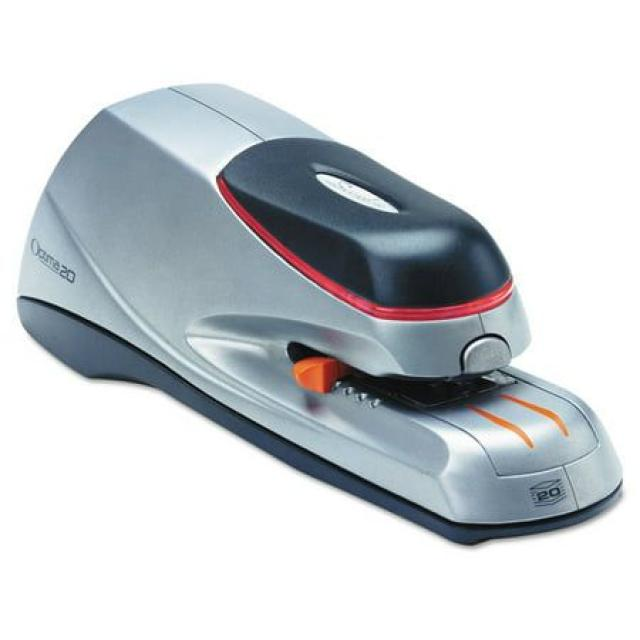Stapler: (0, 50, 640, 569)
